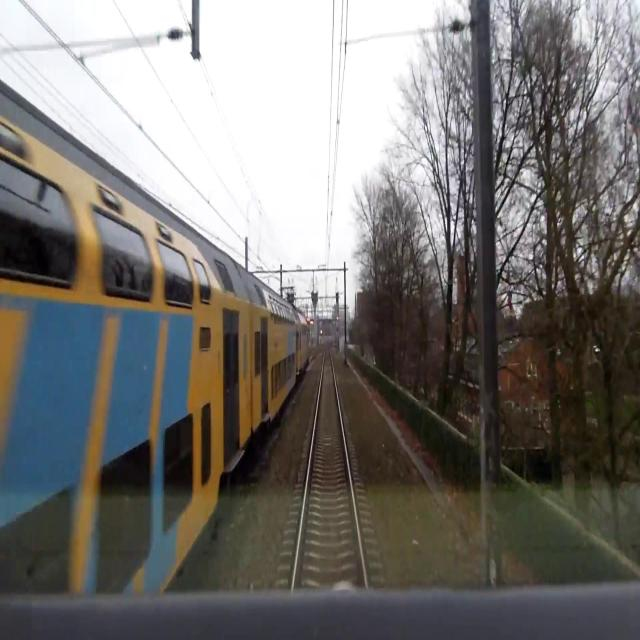rail-track: (288, 343, 371, 639)
